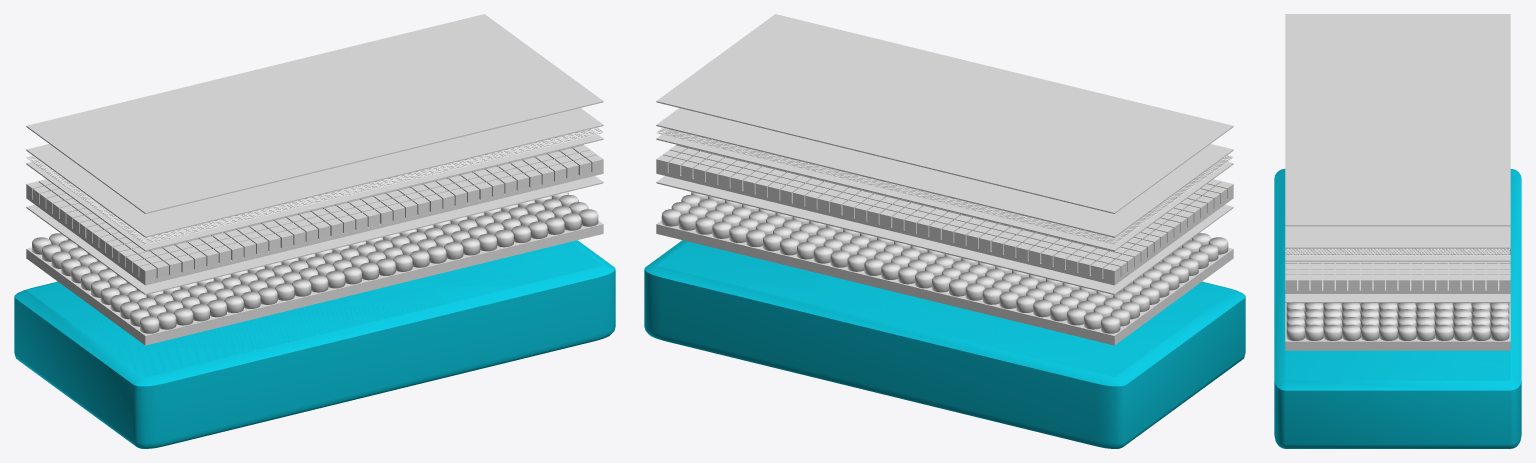
The model's file is Smartress_Version3_01_colorized.fbx.
3 views of the same model, side by side, from view 1: azimuth 30°, elevation 25°; view 2: azimuth 150°, elevation 25°; view 3: azimuth 270°, elevation 25° (orthographic). The views are drawn at different scales.
Parts seen in each view (by area): view 1: Fassung, Laken, Luftkissen, ViskoCube, Boden_oben_AI_Sensor, BodenLuftKissen, Boden_unten_AI_Sensor, WärmeKälteLayer, AI_Sensor, BodenVisko; view 2: Fassung, Laken, Luftkissen, ViskoCube, Boden_oben_AI_Sensor, BodenLuftKissen, Boden_unten_AI_Sensor, WärmeKälteLayer, AI_Sensor, BodenVisko; view 3: Laken, Fassung, Luftkissen, ViskoCube, Boden_oben_AI_Sensor, Boden_unten_AI_Sensor, BodenLuftKissen, WärmeKälteLayer, BodenVisko, AI_Sensor.
Boxes of the visible parts, left/top/right/bottom form: Fassung: left=14, top=240, right=615, bottom=448; Laken: left=26, top=14, right=603, bottom=213; Luftkissen: left=32, top=192, right=598, bottom=333; ViskoCube: left=26, top=144, right=603, bottom=281; Boden_oben_AI_Sensor: left=26, top=108, right=603, bottom=237; BodenLuftKissen: left=26, top=220, right=603, bottom=345; Boden_unten_AI_Sensor: left=26, top=129, right=603, bottom=251; WärmeKälteLayer: left=26, top=176, right=603, bottom=294; AI_Sensor: left=26, top=127, right=603, bottom=244; BodenVisko: left=26, top=170, right=603, bottom=285; Fassung: left=644, top=240, right=1245, bottom=448; Laken: left=656, top=14, right=1233, bottom=213; Luftkissen: left=661, top=192, right=1228, bottom=333; ViskoCube: left=656, top=144, right=1233, bottom=281; Boden_oben_AI_Sensor: left=656, top=108, right=1233, bottom=237; BodenLuftKissen: left=656, top=220, right=1233, bottom=345; Boden_unten_AI_Sensor: left=656, top=129, right=1233, bottom=251; WärmeKälteLayer: left=656, top=176, right=1233, bottom=294; AI_Sensor: left=656, top=127, right=1233, bottom=244; BodenVisko: left=656, top=170, right=1233, bottom=285; Laken: left=1285, top=14, right=1510, bottom=226; Fassung: left=1274, top=169, right=1521, bottom=448; Luftkissen: left=1286, top=303, right=1509, bottom=340; ViskoCube: left=1285, top=261, right=1510, bottom=290; Boden_oben_AI_Sensor: left=1285, top=226, right=1510, bottom=248; Boden_unten_AI_Sensor: left=1285, top=248, right=1510, bottom=261; BodenLuftKissen: left=1285, top=303, right=1510, bottom=350; WärmeKälteLayer: left=1285, top=294, right=1510, bottom=302; BodenVisko: left=1285, top=261, right=1510, bottom=293; AI_Sensor: left=1285, top=248, right=1510, bottom=255.
Size of the model in its own units: 210 by 97.6 by 99.
